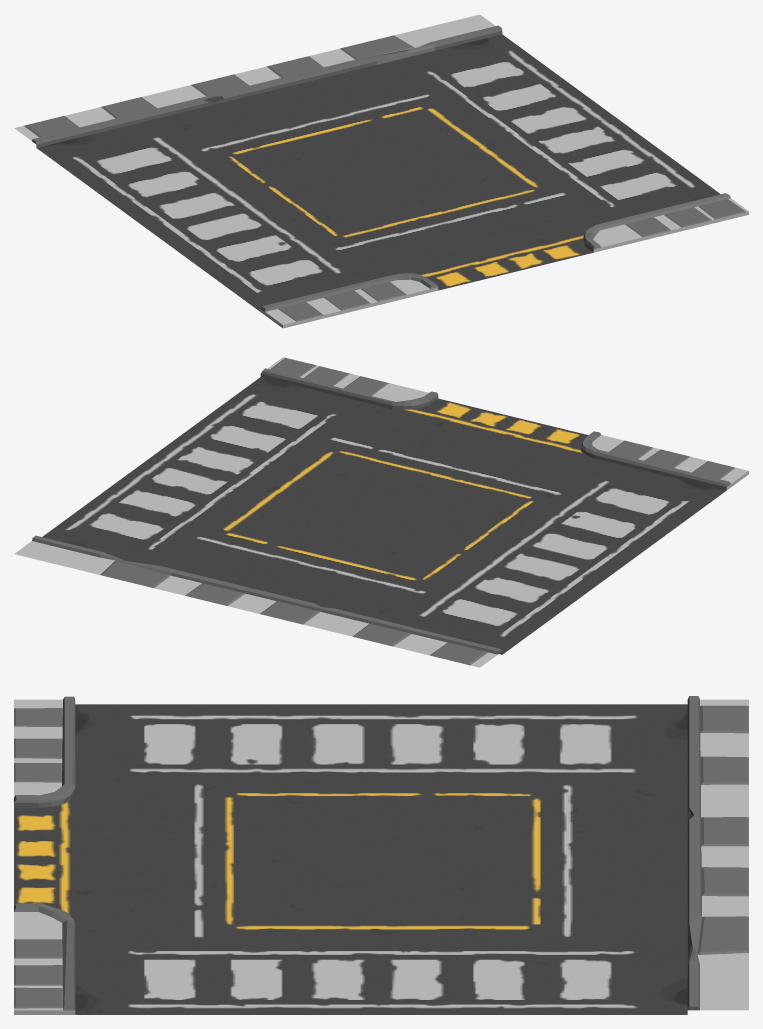
Rendered from Crossway_To_Road_S.fbx.
3 views of the same model, one above another, from view 1: azimuth 30°, elevation 25°; view 2: azimuth 150°, elevation 25°; view 3: azimuth 270°, elevation 25° (orthographic). The views are drawn at different scales.
Parts seen in each view (by area): view 1: Crossway_To_Road_S; view 2: Crossway_To_Road_S; view 3: Crossway_To_Road_S.
Part boxes in pixels (x1,y1,x2,y2): Crossway_To_Road_S: [14, 14, 748, 328]; Crossway_To_Road_S: [14, 357, 748, 667]; Crossway_To_Road_S: [14, 696, 748, 1014].
Size of the model in its own units: 2400 by 34.01 by 2400.
